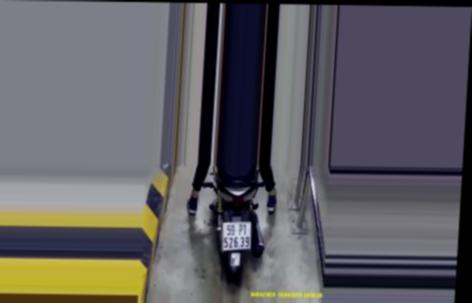License_Plate: (216, 219, 255, 251)
